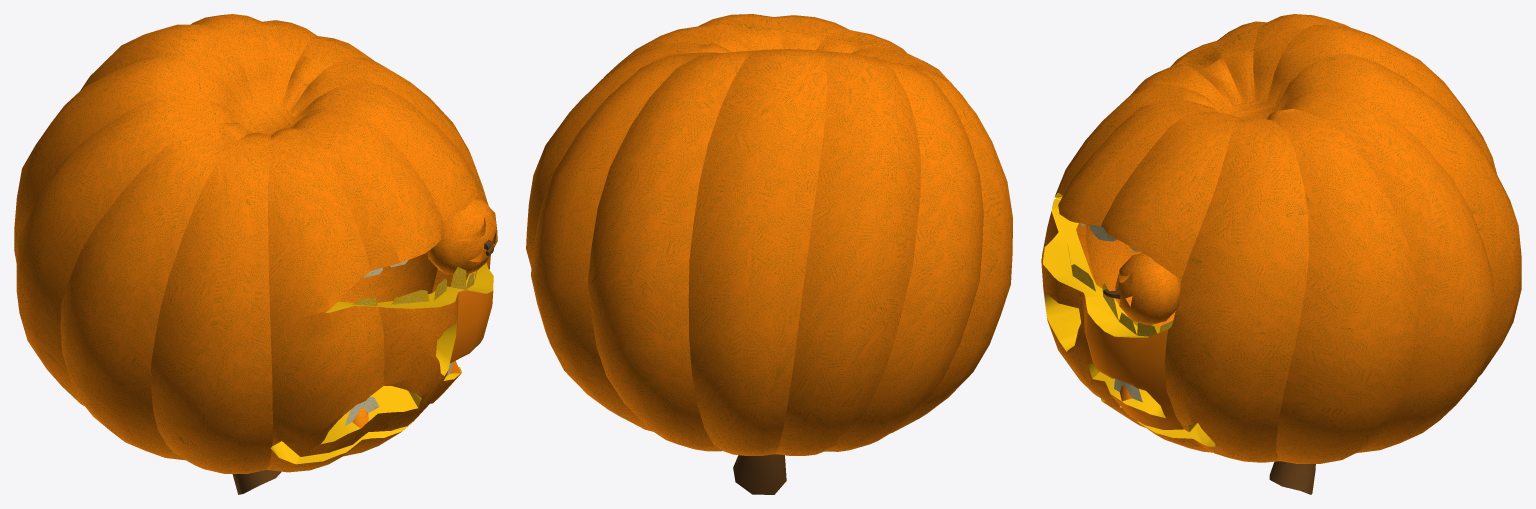
The model's file is Pumpkin.dae.
The picture shows the model from 3 angles, left to right: view 1: azimuth 30°, elevation 25°; view 2: azimuth 150°, elevation 25°; view 3: azimuth 270°, elevation 25°; orthographic projection. The views are drawn at different scales.
Parts seen in each view (by area): view 1: group_5 (×2), group_1 (×4), group_4, group_6; view 2: group_5, group_6; view 3: group_5 (×2), group_1 (×4), group_4, group_6.
Boxes of the visible parts, bbox=[...] form: group_5 (×2): bbox=[14, 14, 493, 473]; group_1 (×4): bbox=[270, 190, 493, 464]; group_4: bbox=[427, 197, 497, 274]; group_6: bbox=[232, 470, 281, 494]; group_5: bbox=[526, 14, 1012, 455]; group_6: bbox=[733, 454, 786, 494]; group_5 (×2): bbox=[1041, 14, 1521, 463]; group_1 (×4): bbox=[1042, 193, 1215, 447]; group_4: bbox=[1115, 253, 1180, 325]; group_6: bbox=[1269, 461, 1315, 494].
Size of the model in its own units: 135 by 139 by 141.
